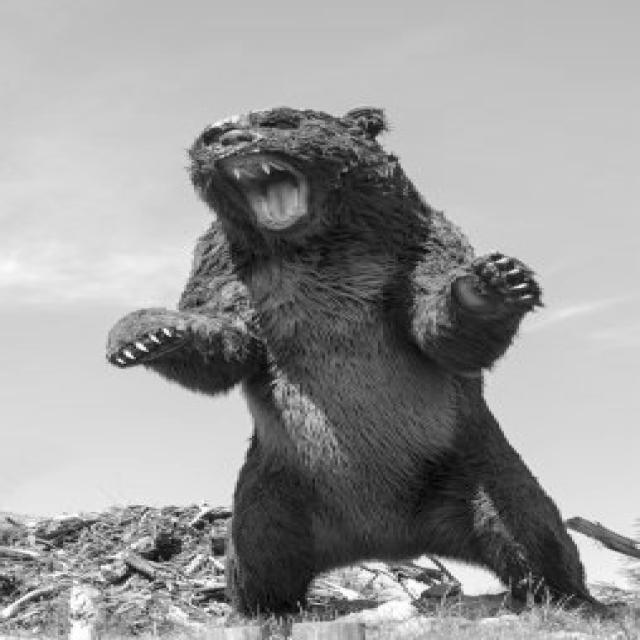Animal: (108, 108, 593, 613)
